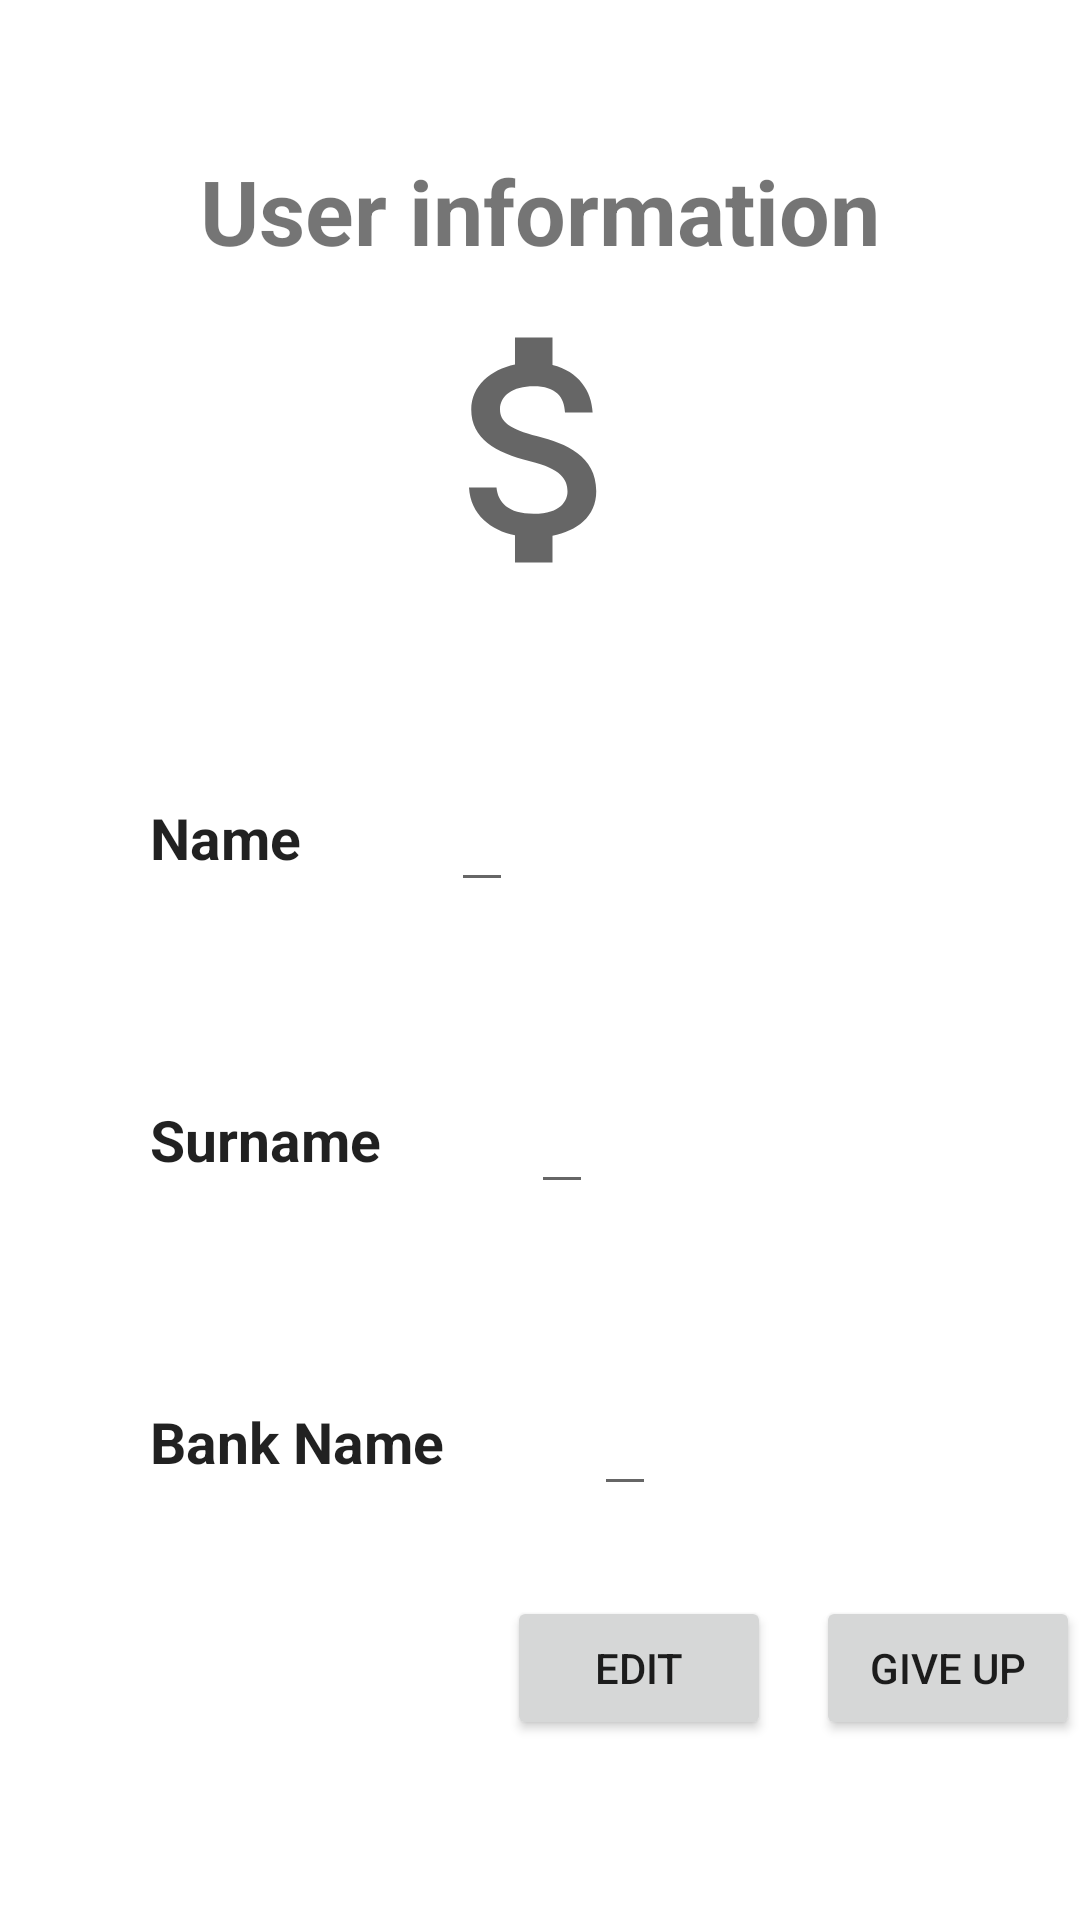

Where icons sit on this 1080*1920 app screen, as [x1,y1,x2,y2]:
moneyicon: [469,337,597,563]
